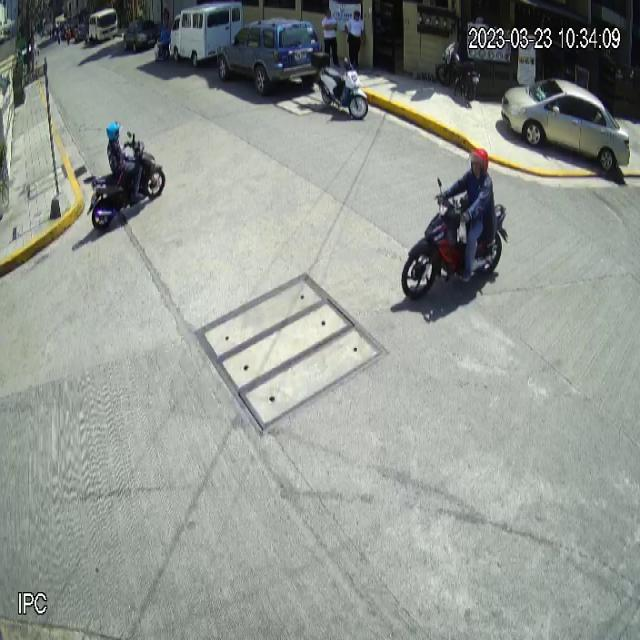Car: (501, 79, 631, 172), (216, 16, 322, 96)
Motorcycle: (401, 178, 508, 301), (86, 131, 166, 232), (311, 51, 368, 121)
Van: (169, 0, 243, 67)
